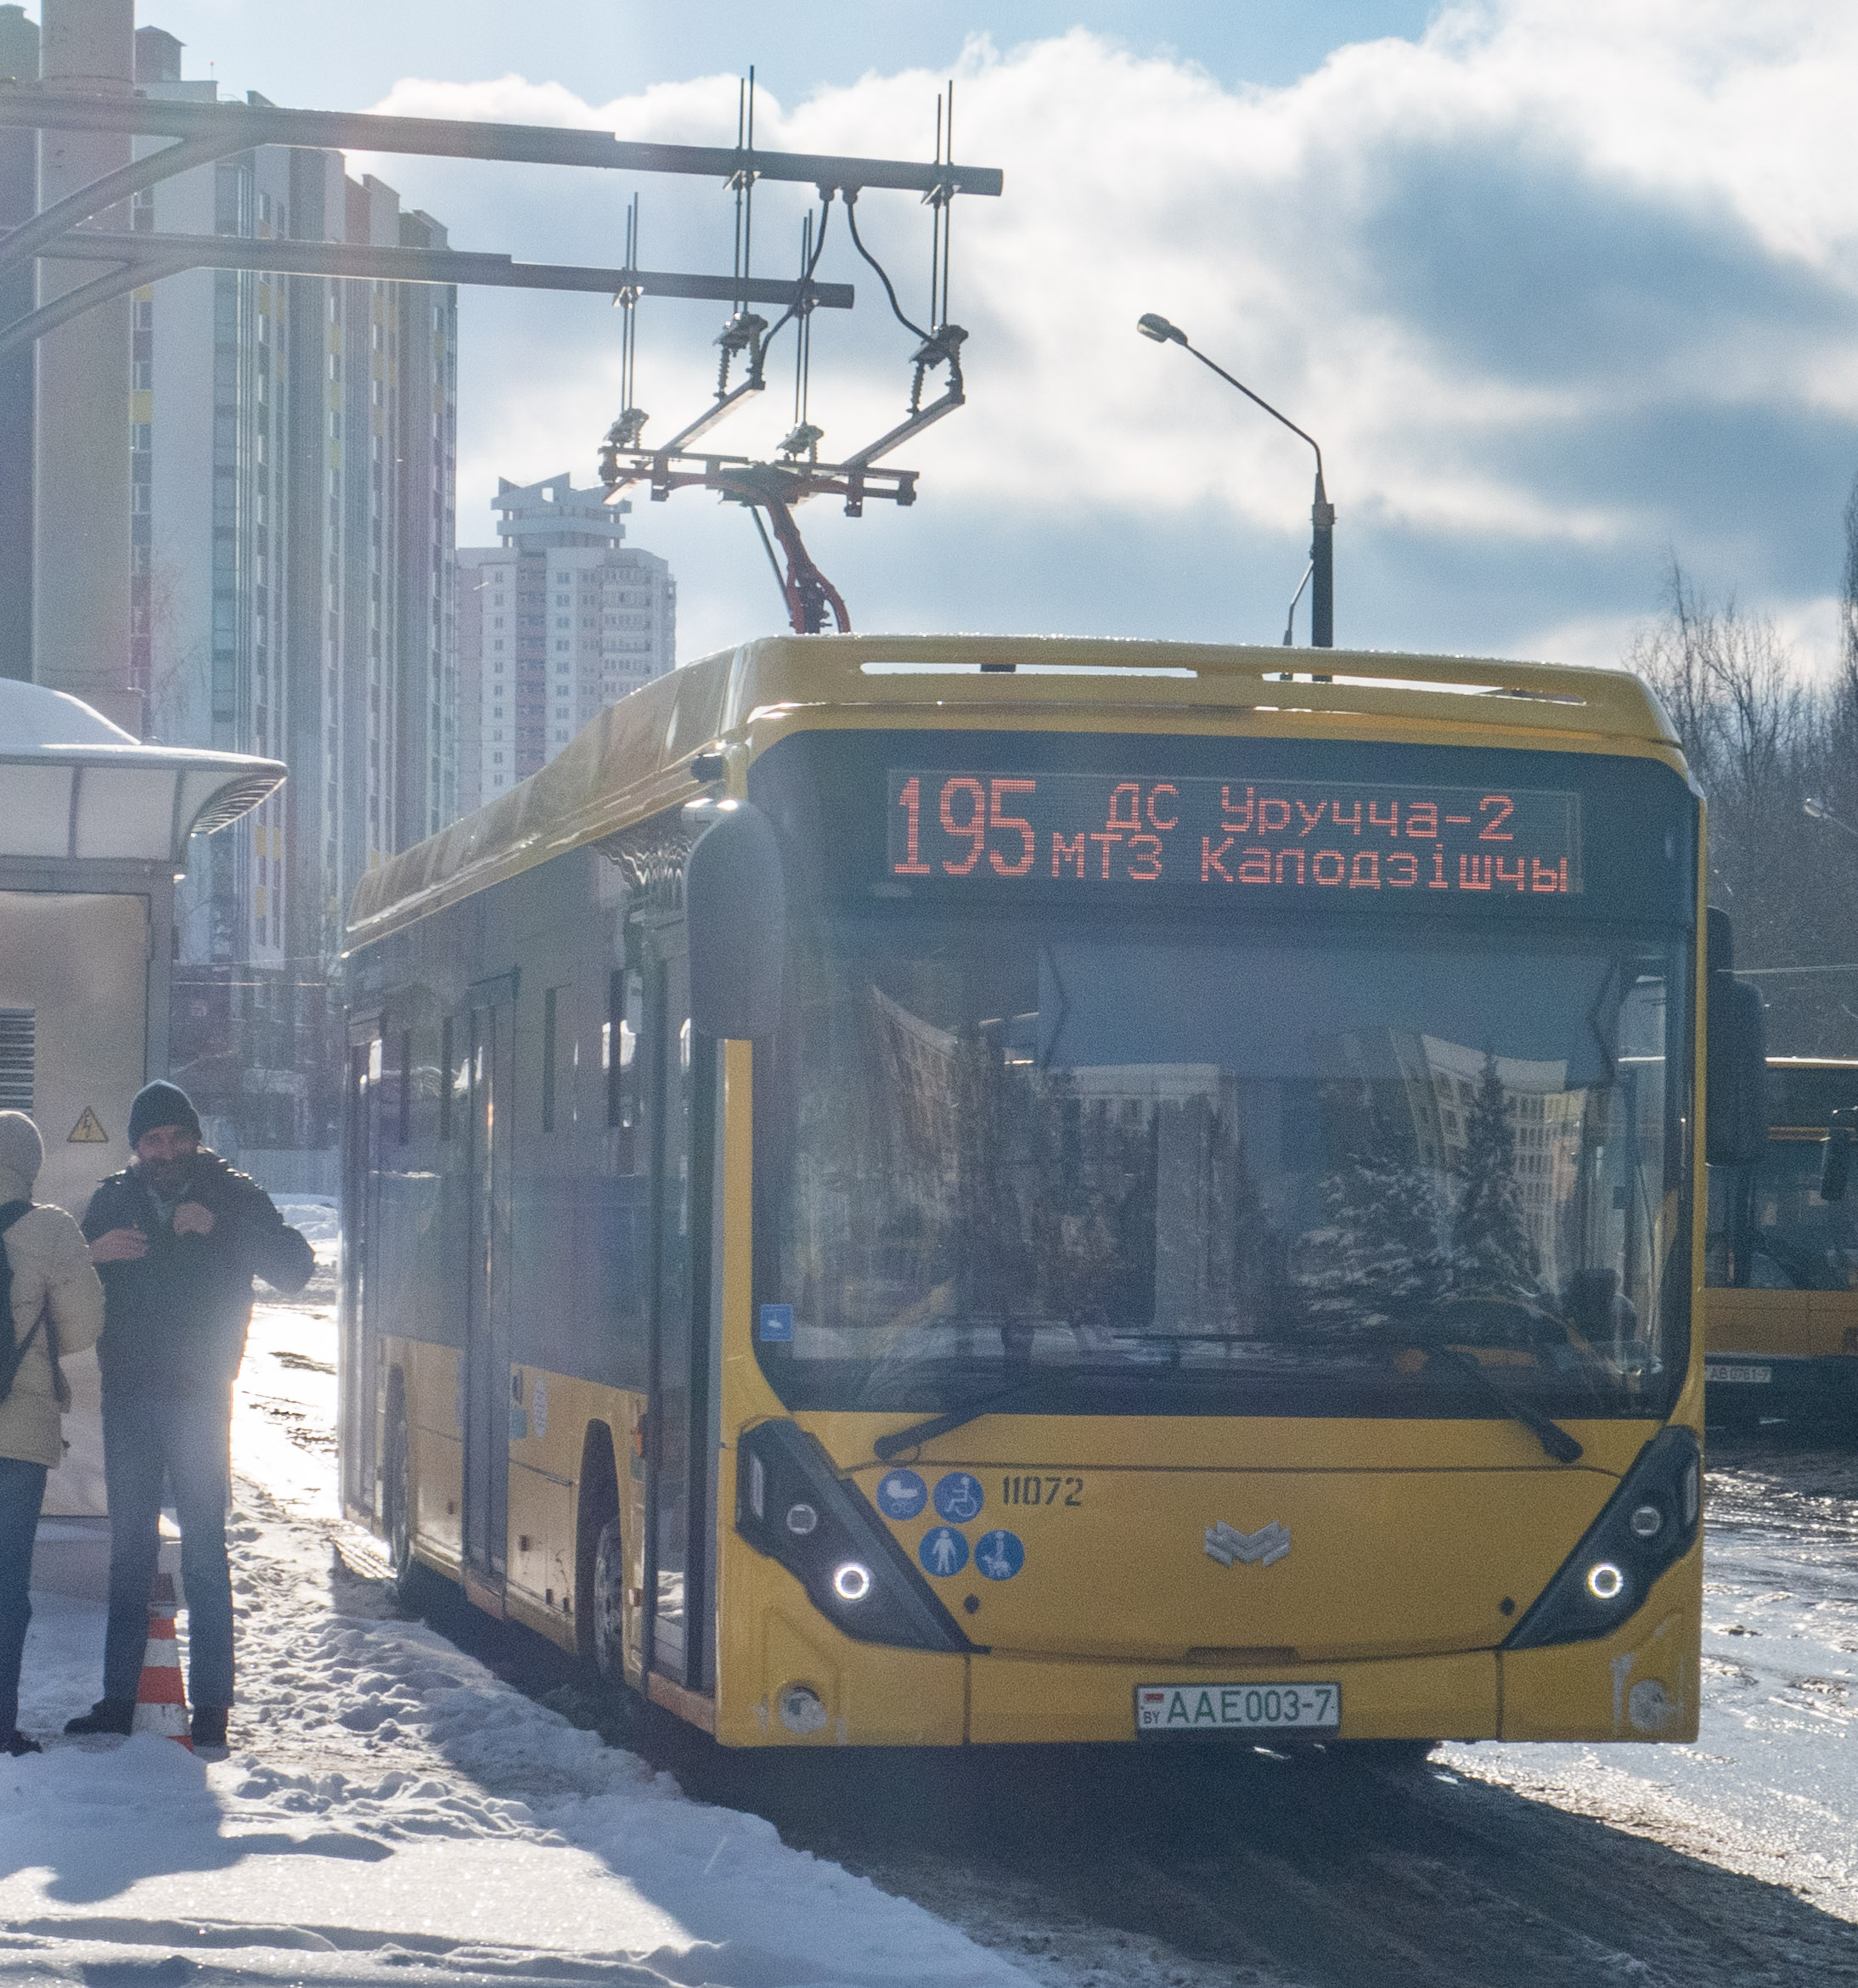bus: (328, 624, 1710, 1745), (1687, 1052, 1858, 1410)
